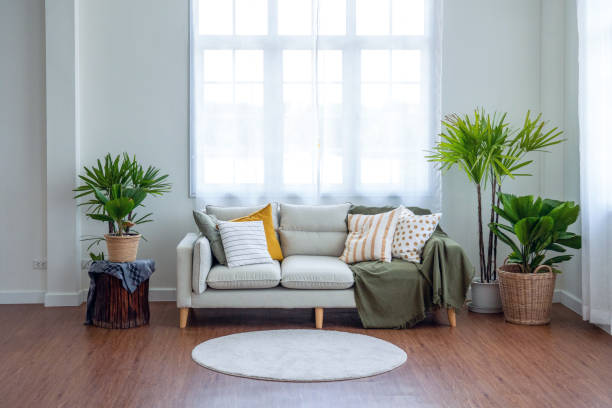large plant: (427, 106, 564, 315), (491, 189, 583, 329), (71, 148, 171, 263)
side table: (83, 261, 156, 332)
sofa: (173, 202, 464, 332)
